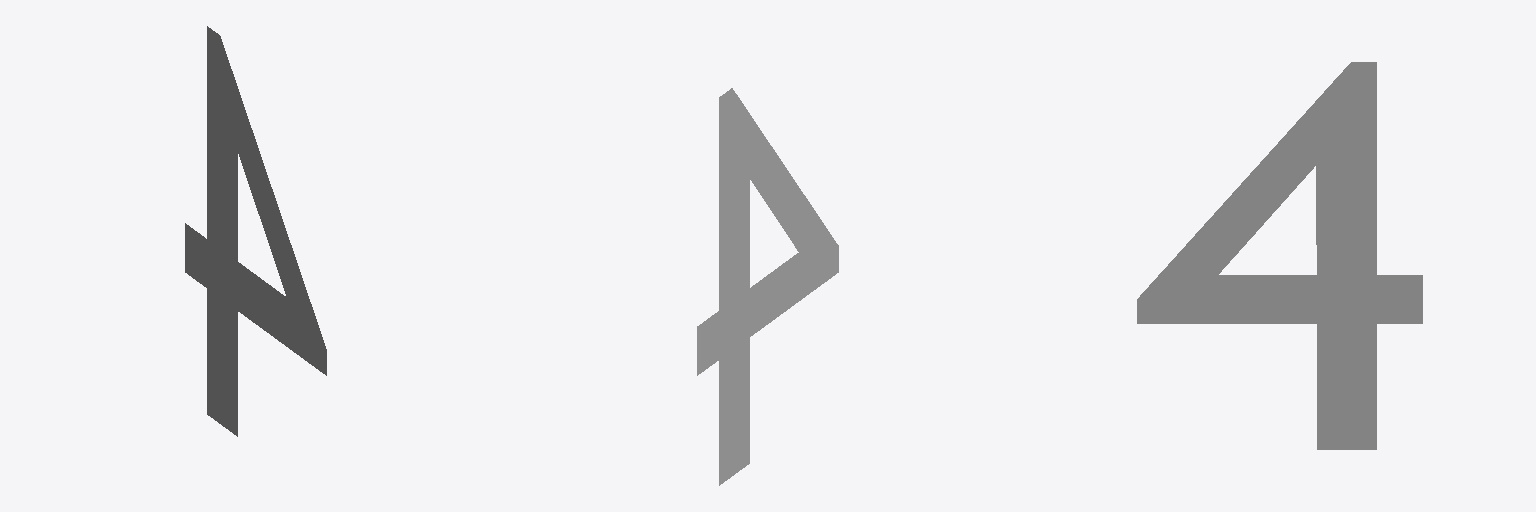
File: number_4.obj
3 views of the same model, side by side, from view 1: azimuth 30°, elevation 25°; view 2: azimuth 150°, elevation 25°; view 3: azimuth 270°, elevation 25° (orthographic).
Parts seen in each view (by area): view 1: number_4; view 2: number_4; view 3: number_4.
Part boxes in pixels (x1,y1,x2,y2): number_4: (185, 26, 326, 436); number_4: (697, 88, 838, 485); number_4: (1137, 62, 1422, 449).
Size of the model in its own units: 0 by 6.74 by 4.48.